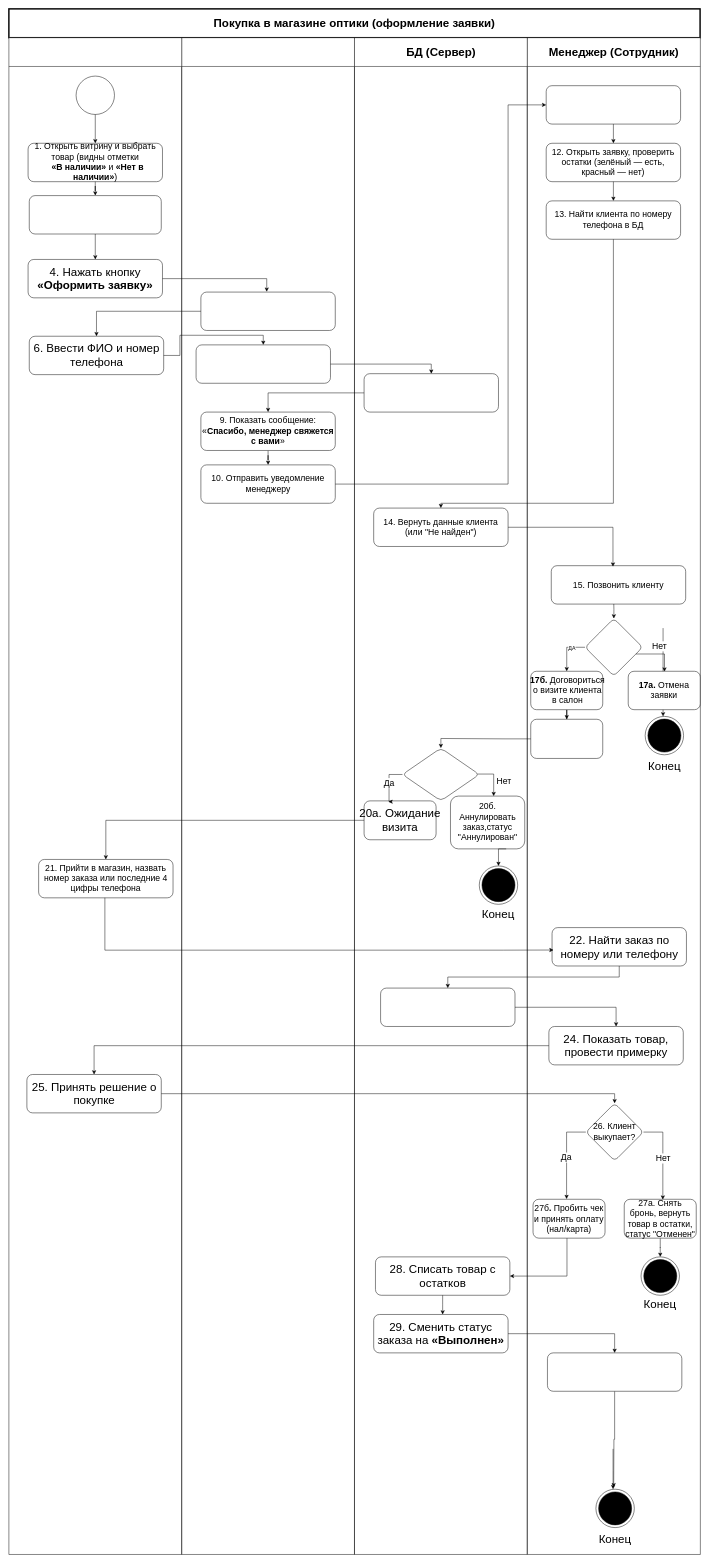
Image size: 709x1563. Some labels were removed from this diagram. The box of each missing label's shape, as (x1, y1, x2, y2) in pixels:
11. Получить уведомление о новой заявке: (546, 85, 681, 124)
16. Клиент подтверждает заказ?: (585, 618, 643, 676)
18. Перевести заказ в статус «Ожидает визита» в БД: (530, 719, 603, 758)
19. Прошло 3 дня?: (402, 748, 479, 801)
2. Добавить товар в корзину: (29, 195, 161, 234)
23. Вернуть данные заказа: (380, 988, 515, 1026)
30. Передать товар клиенту: (547, 1352, 682, 1391)
5. Отобразить форму (ФИО, телефон): (200, 292, 335, 330)
7. Отправить заявку на обработку: (196, 344, 330, 383)
8. Создать заказ со статусом «Новый» , присвоить уникальный номер: (364, 373, 498, 412)
ИС Оптика: (181, 37, 354, 1554)
Клиент: (8, 37, 182, 1554)
